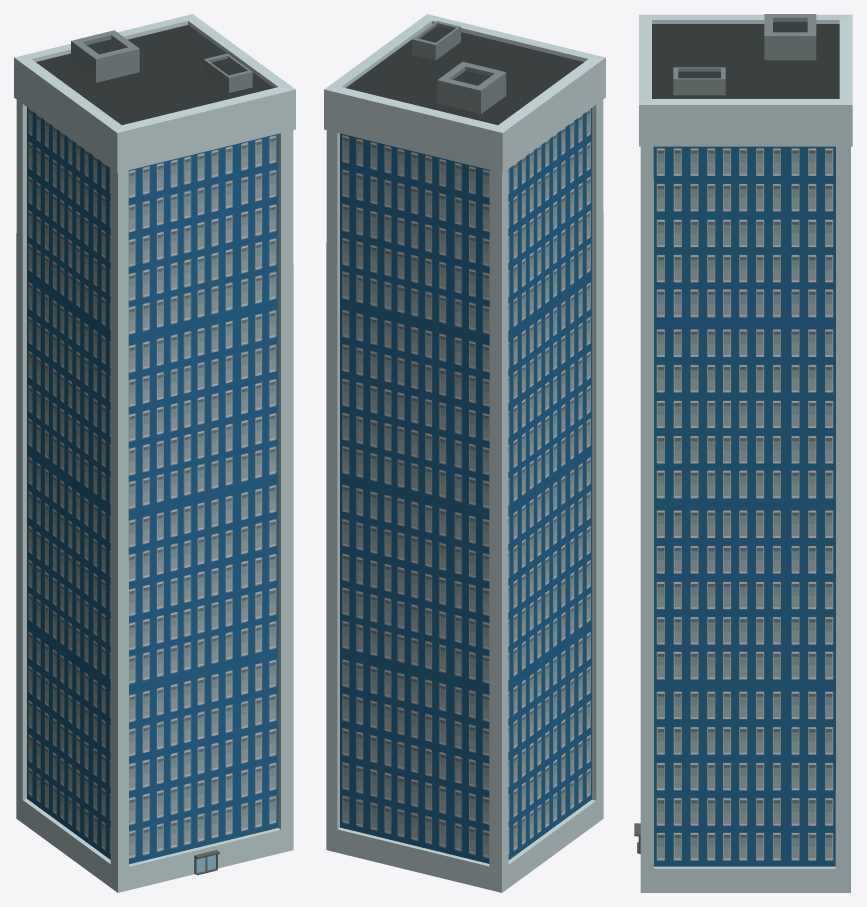
The model's file is High Tower higher.fbx.
3 renders of one model, left to right at view 1: azimuth 30°, elevation 25°; view 2: azimuth 150°, elevation 25°; view 3: azimuth 270°, elevation 25°, orthographic. The views are drawn at different scales.
Parts seen in each view (by area): view 1: High Tower Higher; view 2: High Tower Higher; view 3: High Tower Higher.
Boxes of the visible parts, box(x1,y1,x2,y2) form: High Tower Higher: box(14, 14, 295, 892); High Tower Higher: box(324, 14, 605, 892); High Tower Higher: box(634, 14, 852, 892).
Bounding box in the file's own units: 8.56 × 35.75 × 8.75.
